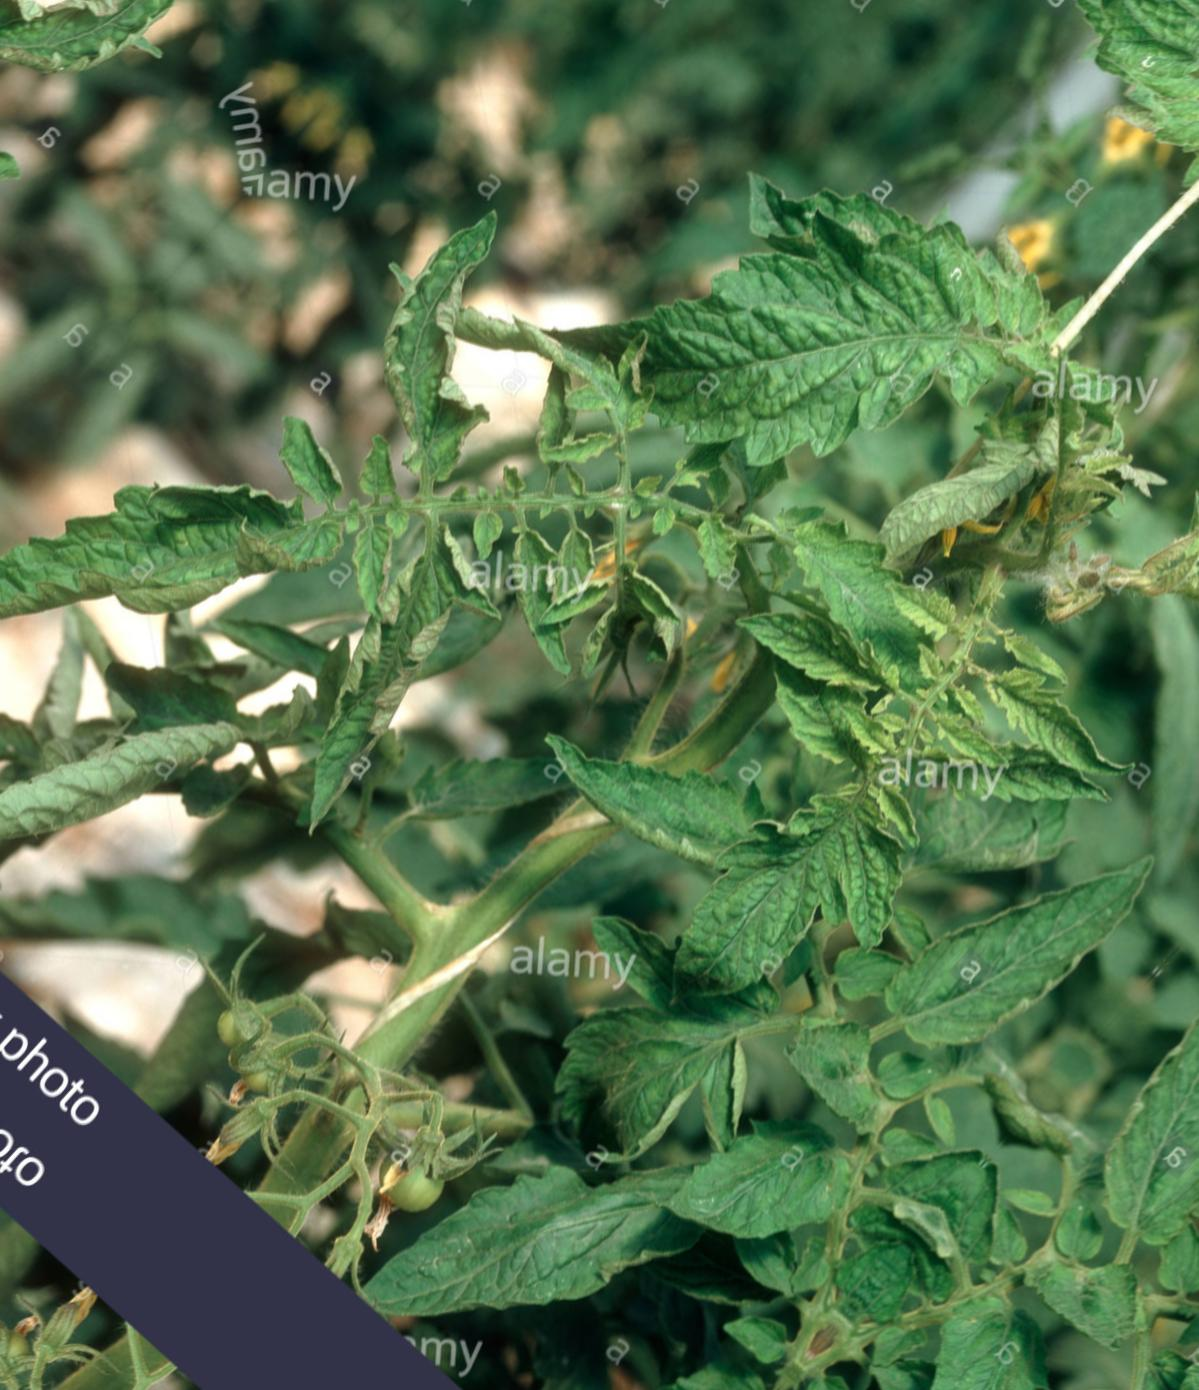Tomato leaf yellow virus: (566, 99, 1085, 618), (0, 347, 388, 821), (631, 749, 955, 1083), (959, 629, 1153, 817)
